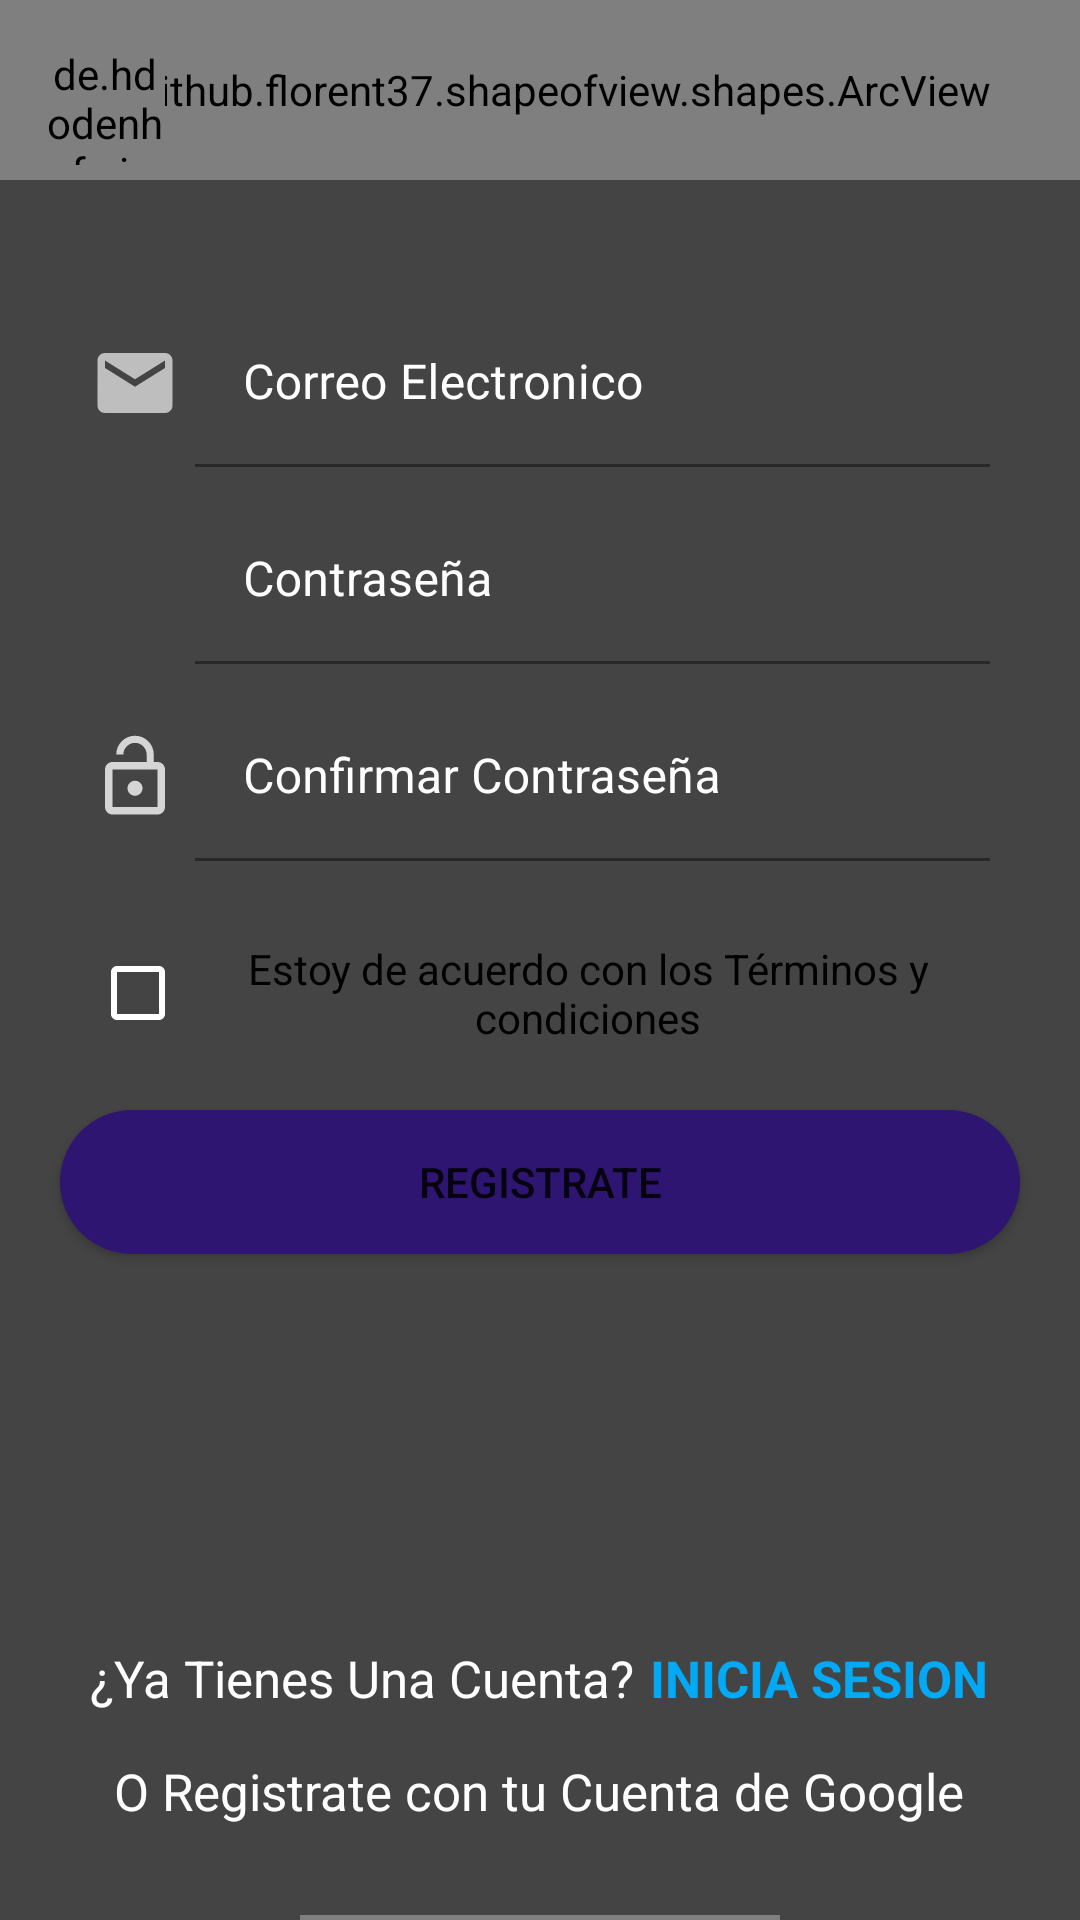

Screen size 1080*1920. Icon name, then its box in pixels as [x1=x1, y1=y1, x2=x2, y2=y2]:
email: [x1=97, y1=353, x2=173, y2=413]
lock open: [x1=105, y1=735, x2=165, y2=815]
